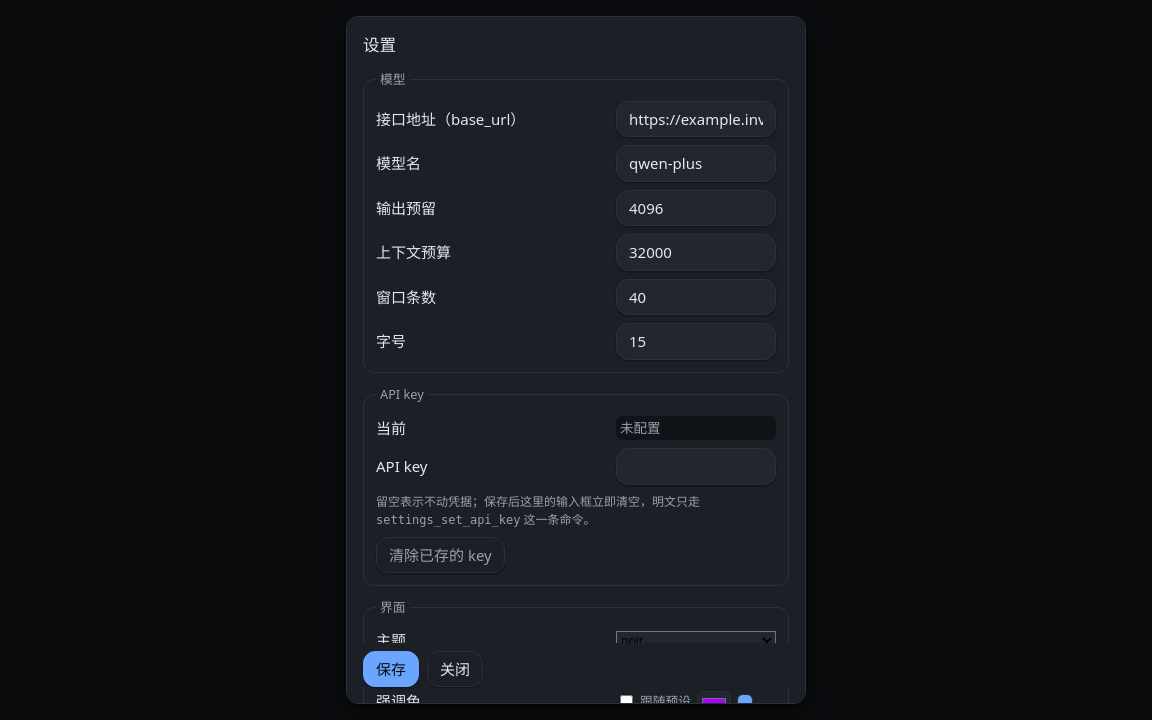
Test: SettingsPanel › refuses to submit a field the store would reject and says which one
Clear the number field labelled "上下文预算" at (696, 253), box [616,234,776,271]
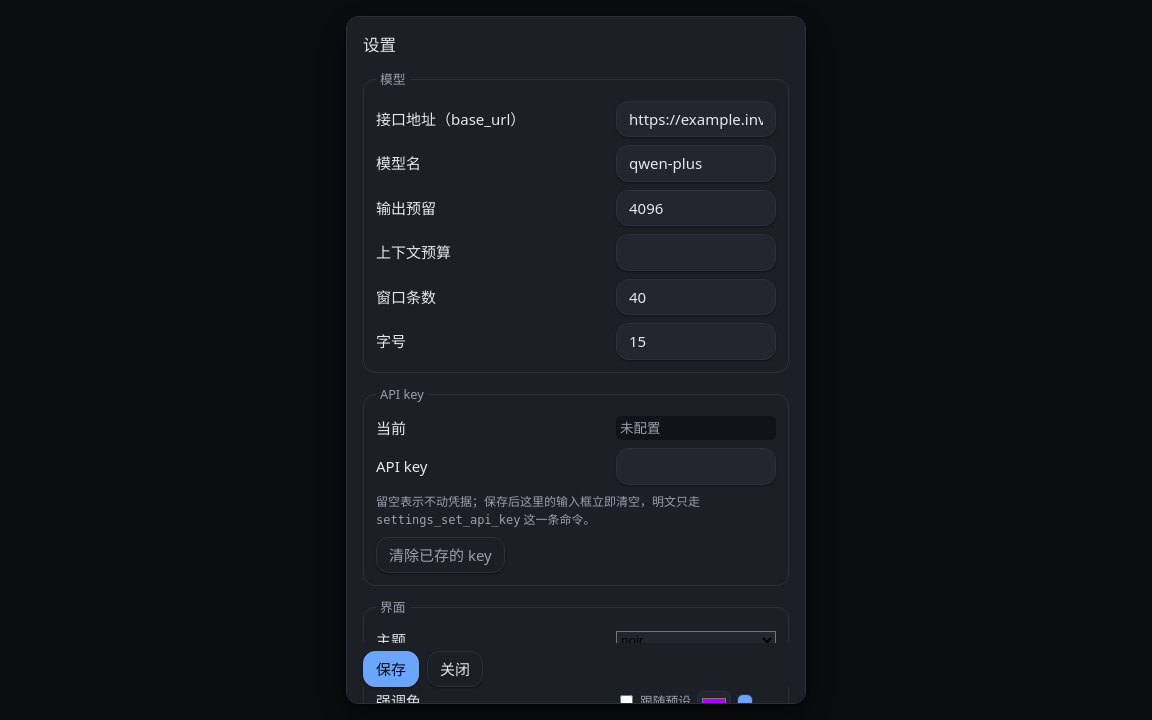
Click the button "保存" at (391, 669), box [363,650,419,687]
(page scrolled)
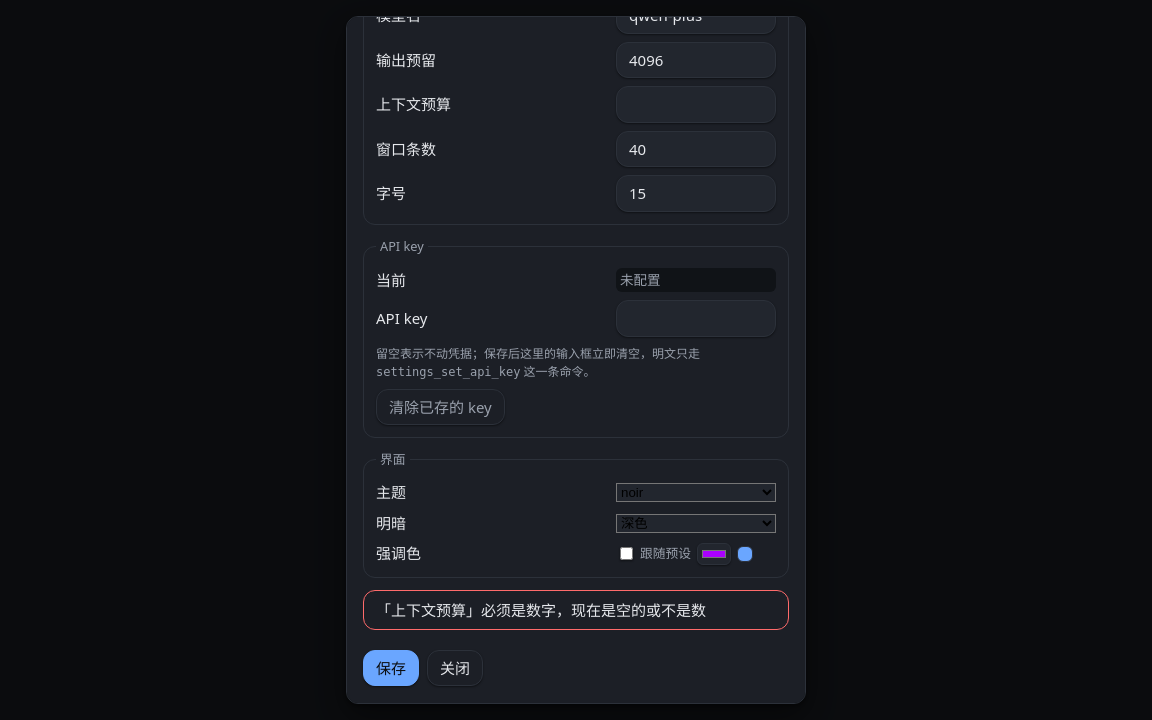
Now the message shows "上下文预算", box [376,600,706,620]
